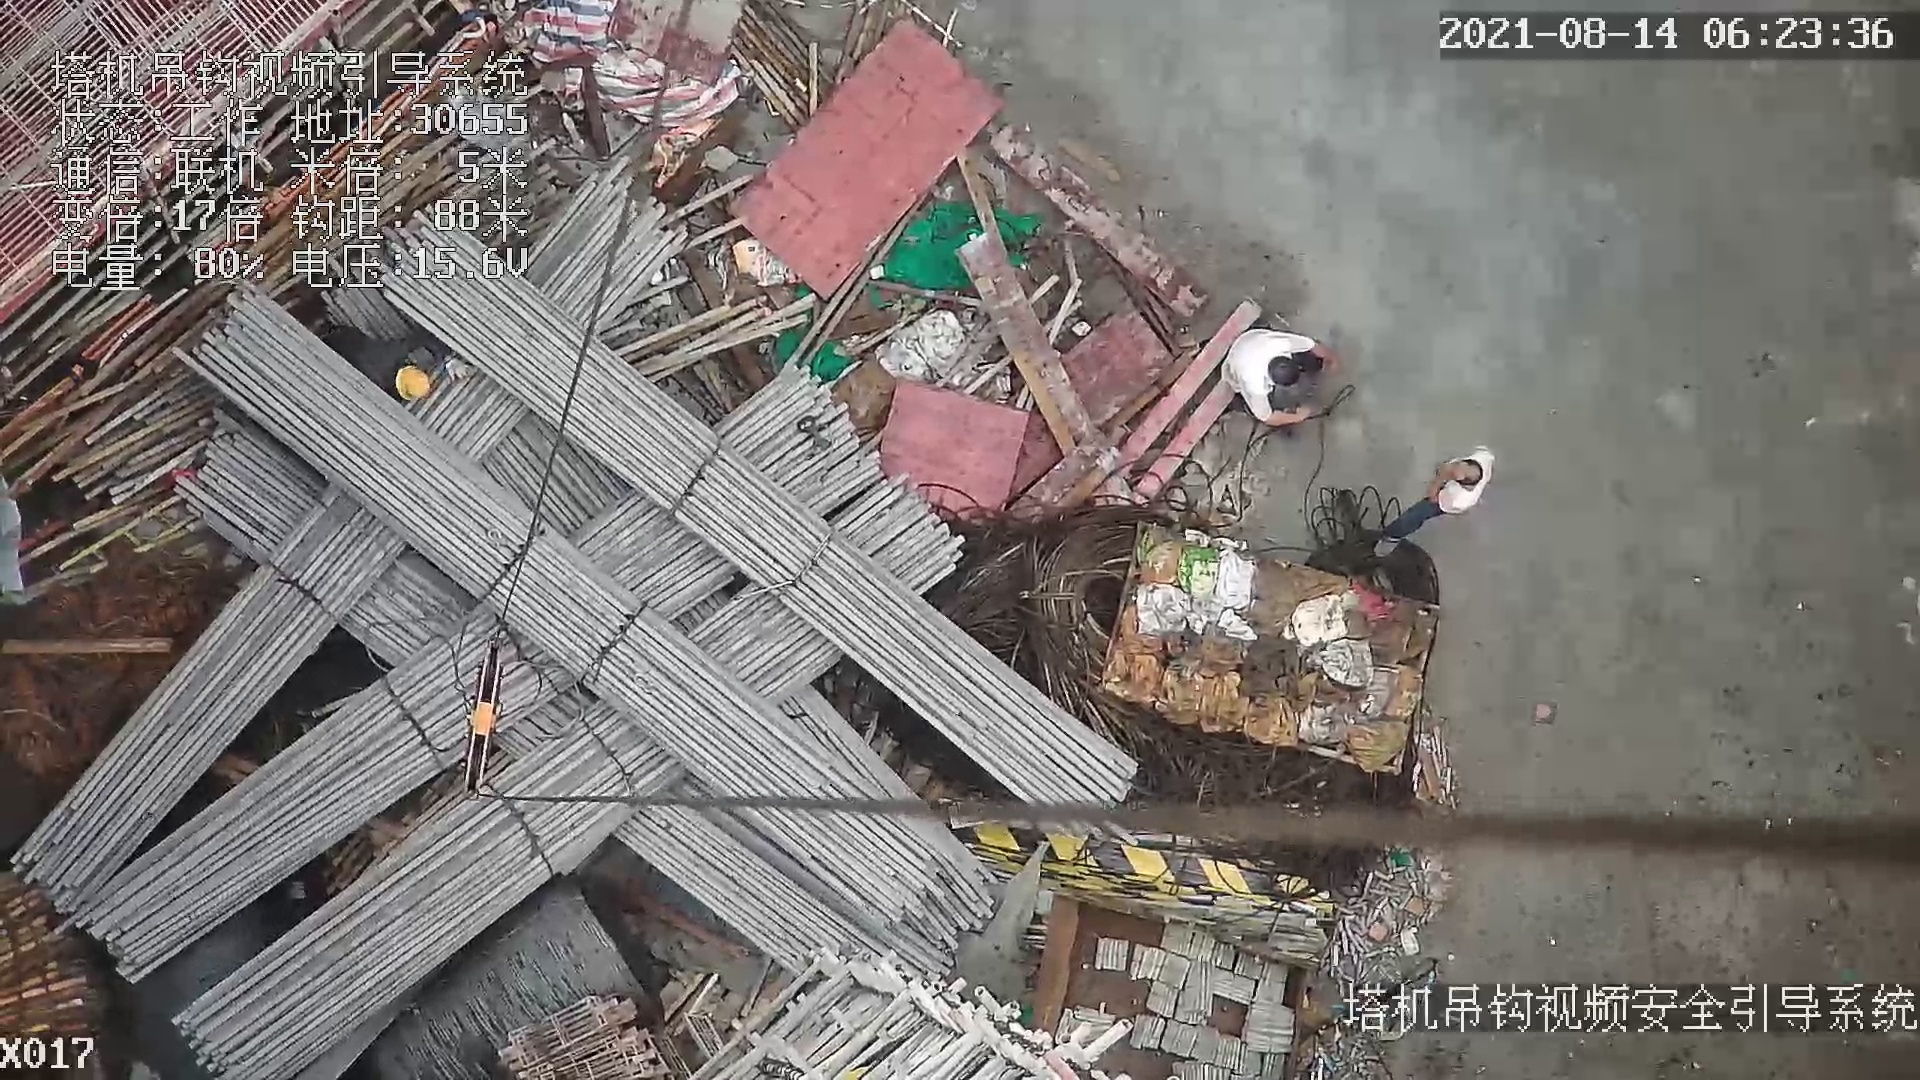helmet: (395, 363, 431, 401)
hook: (463, 636, 523, 792)
person: (1372, 433, 1499, 562), (317, 317, 478, 408), (1219, 319, 1338, 427)
rebar: (178, 281, 952, 937), (385, 285, 1136, 816), (170, 699, 689, 1080), (16, 487, 394, 903), (67, 638, 462, 987)
wood: (1, 866, 109, 1029)
